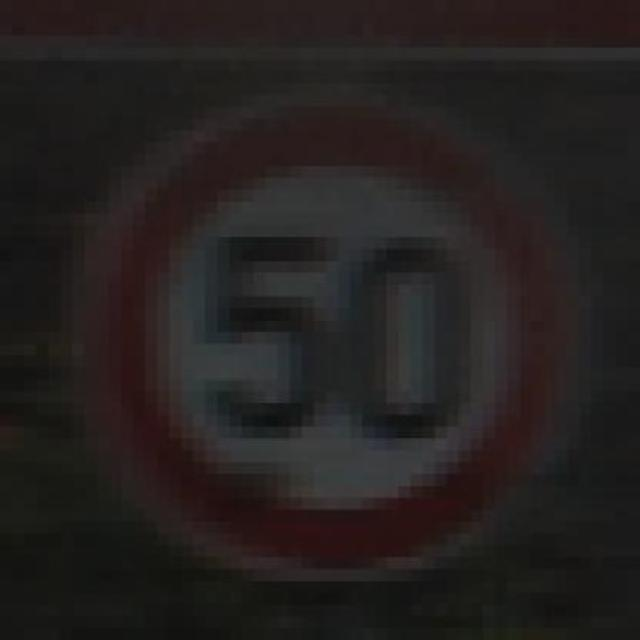Speed limit 50: (75, 90, 587, 584)
